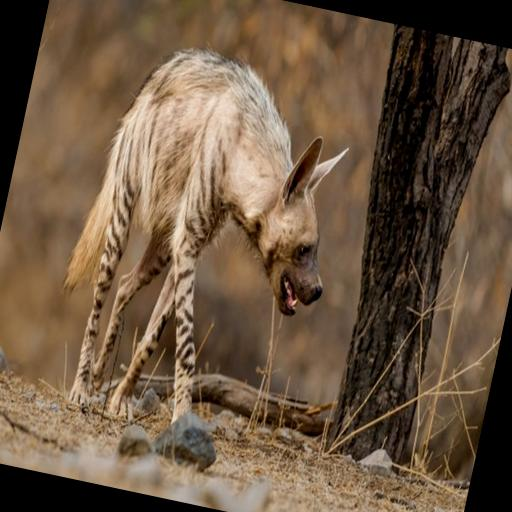hyenas: (0, 10, 389, 479)
